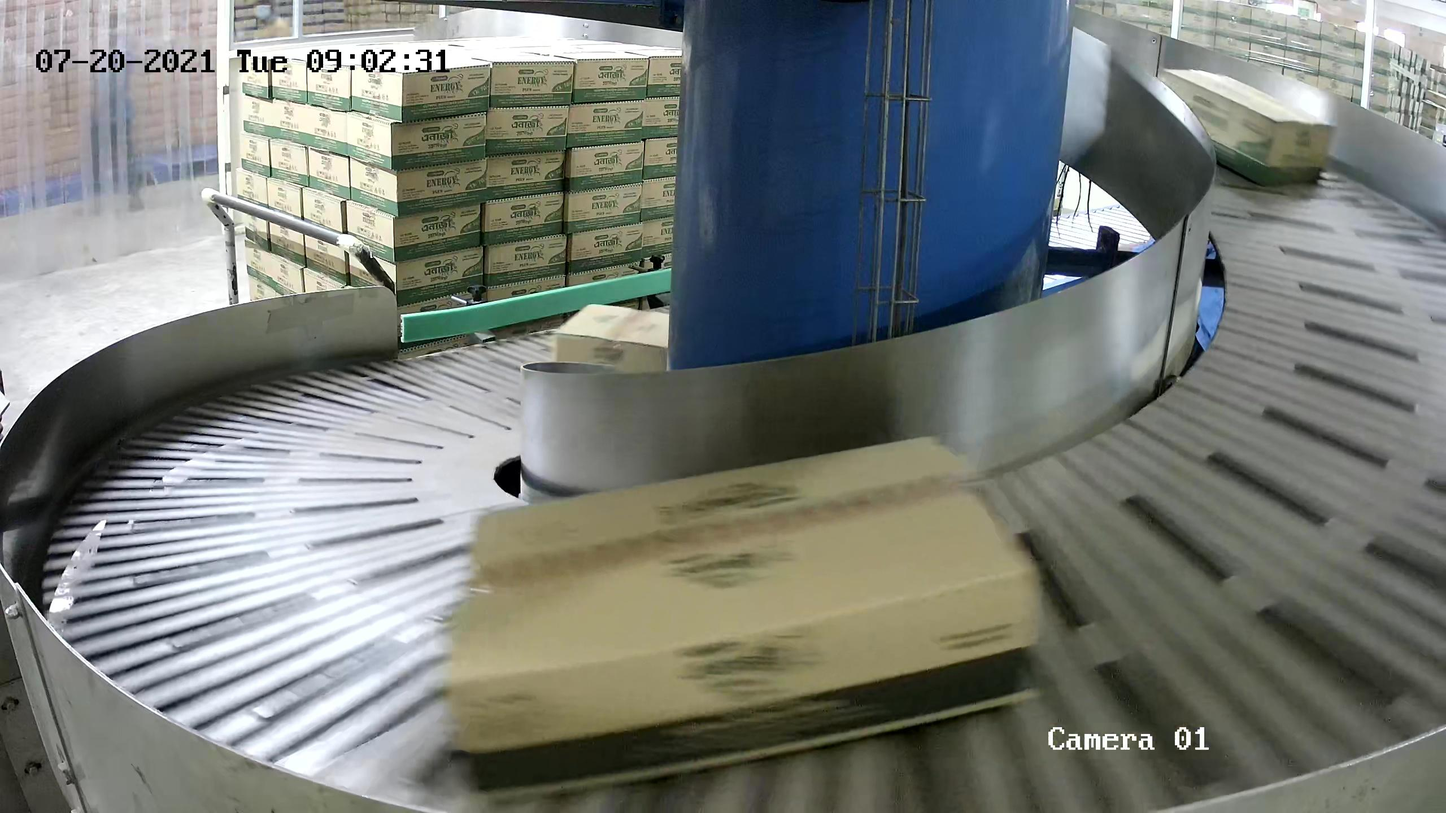Box: (441, 428, 1046, 807), (1156, 66, 1337, 188)
